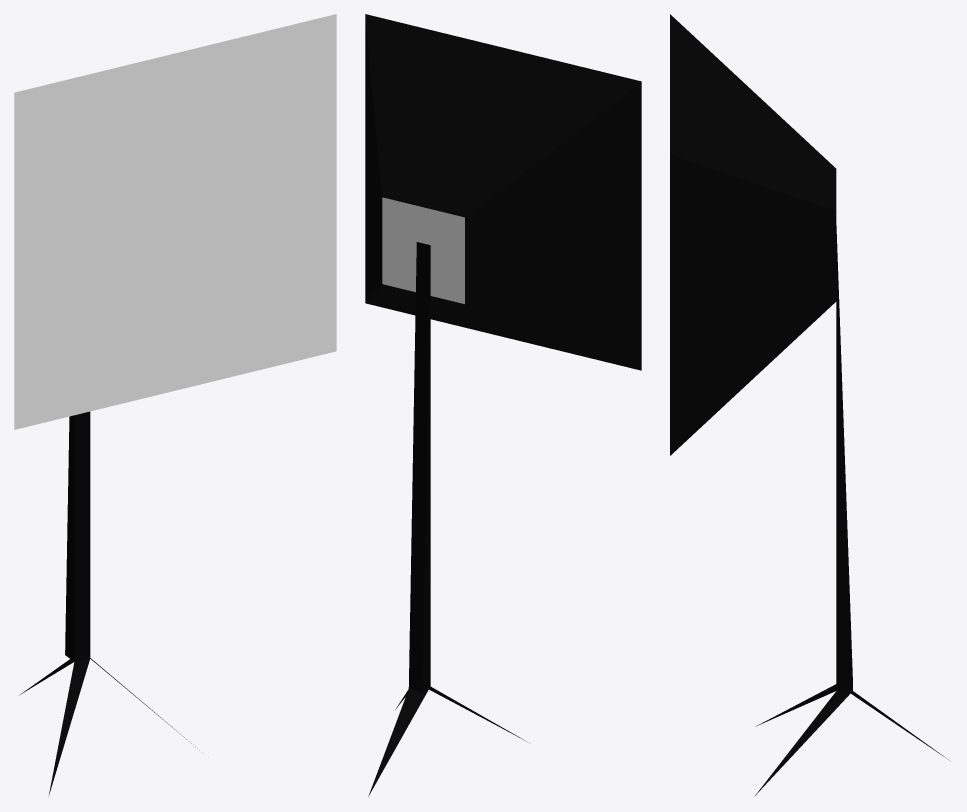
File: softbox.obj
3 renders of one model, left to right at view 1: azimuth 30°, elevation 25°; view 2: azimuth 150°, elevation 25°; view 3: azimuth 270°, elevation 25°, orthographic. The views are drawn at different scales.
Visible parts, largest first — view 1: Softbox_Stand; view 2: Softbox_Stand; view 3: Softbox_Stand.
Boxes of the visible parts, x1=… form: Softbox_Stand: x1=14, y1=14, x2=336, y2=794; Softbox_Stand: x1=365, y1=14, x2=641, y2=796; Softbox_Stand: x1=670, y1=14, x2=949, y2=796.
Size of the model in its own units: 2 by 4.5 by 1.7.
Materials: 2 (2 with a texture image).
